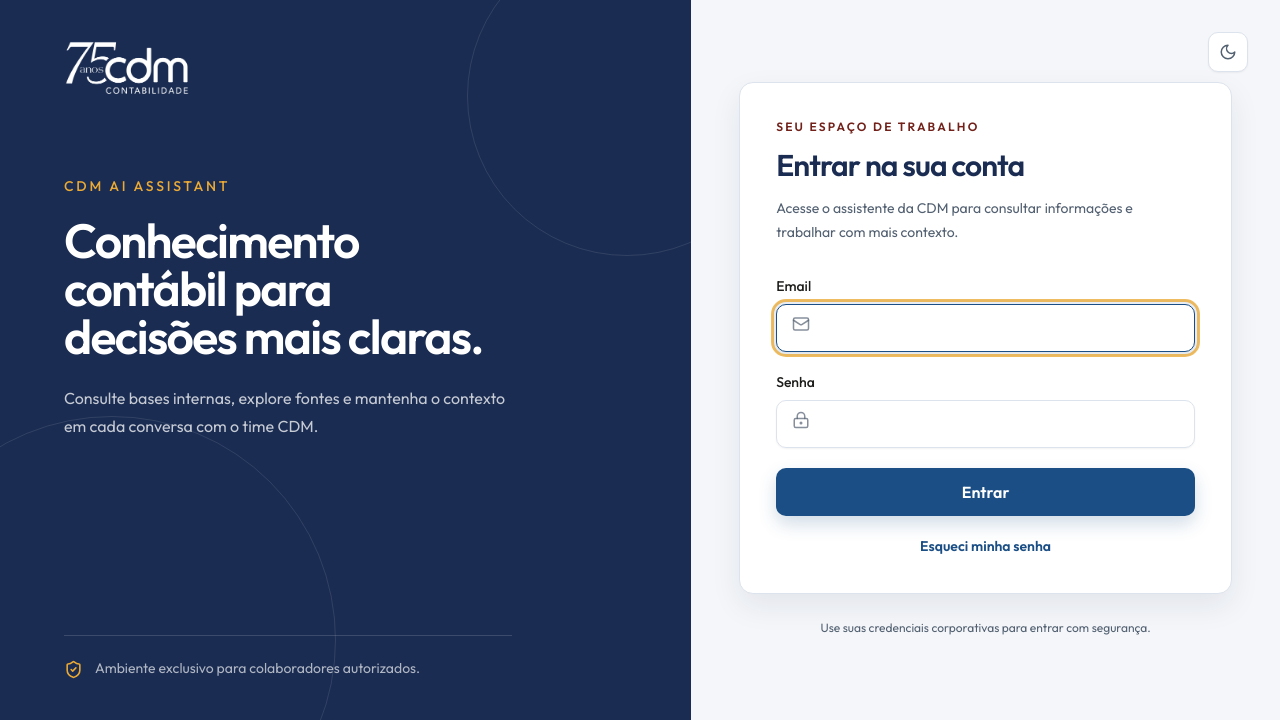
it: submits a forgotten password request with a generic confirmation
Click the button "Esqueci minha senha" at (986, 546), box x1=776 y1=536 x2=1195 y2=556
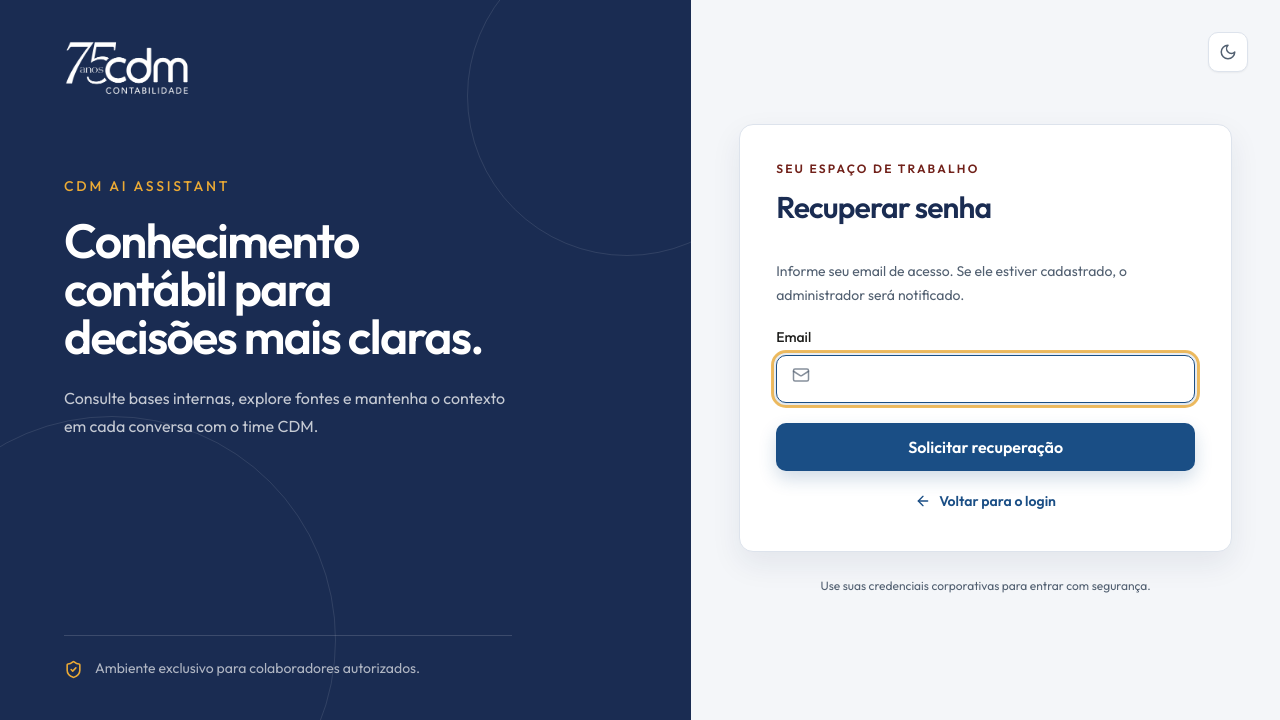
Type "ana@example.com" into the field labelled "Email" at (986, 379), box x1=776 y1=355 x2=1195 y2=403
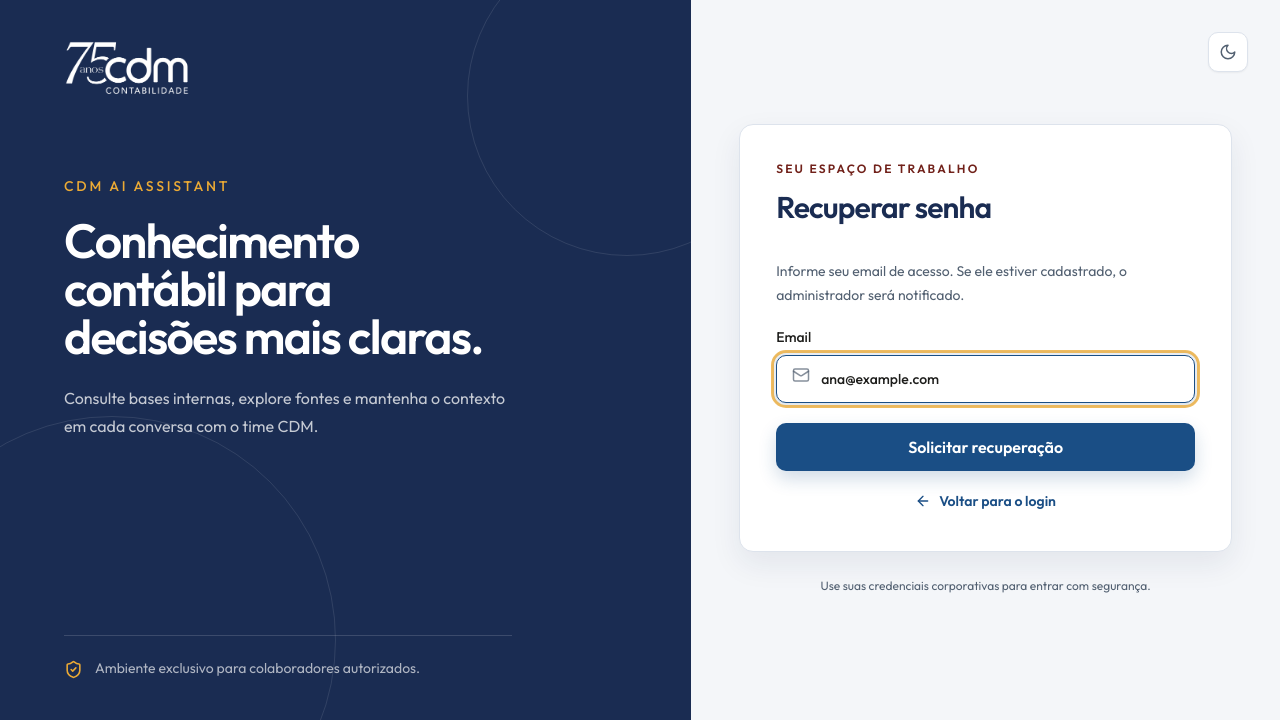
Click the button "Solicitar recuperação" at (986, 447), box x1=776 y1=423 x2=1195 y2=471
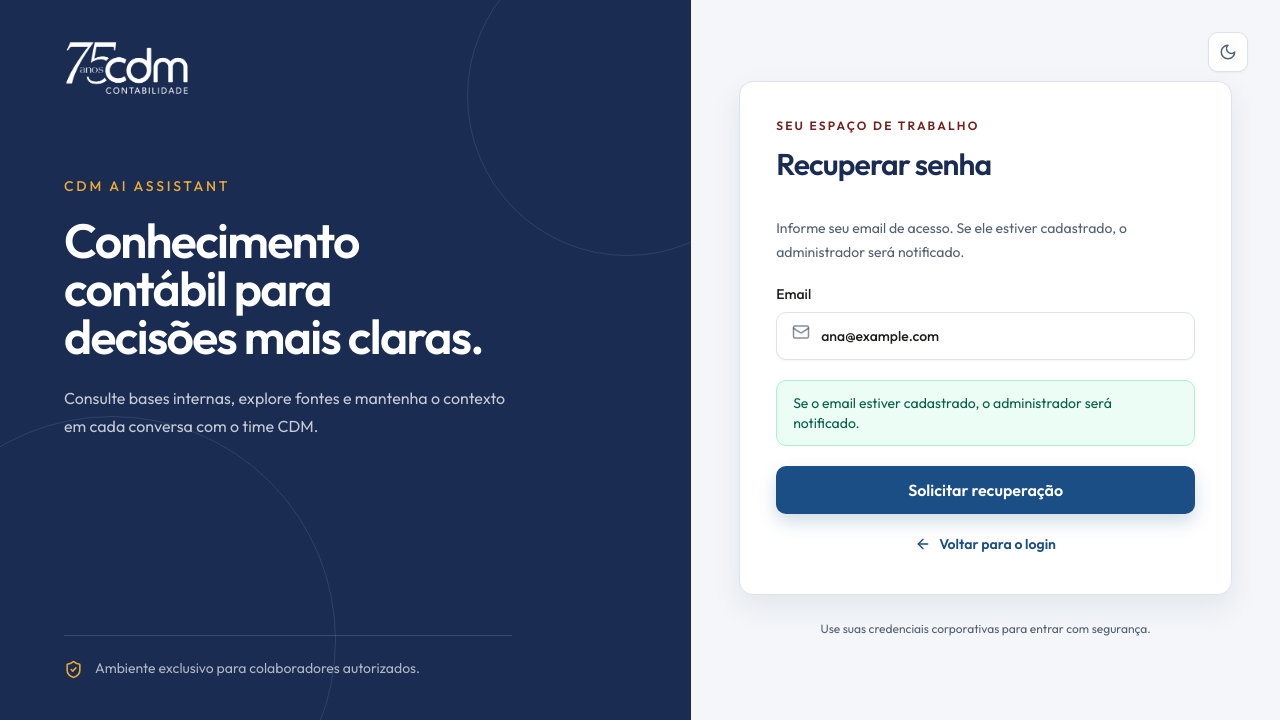
Result: the message shows "administrador será notificado" at x1=793 y1=394 x2=1112 y2=432
